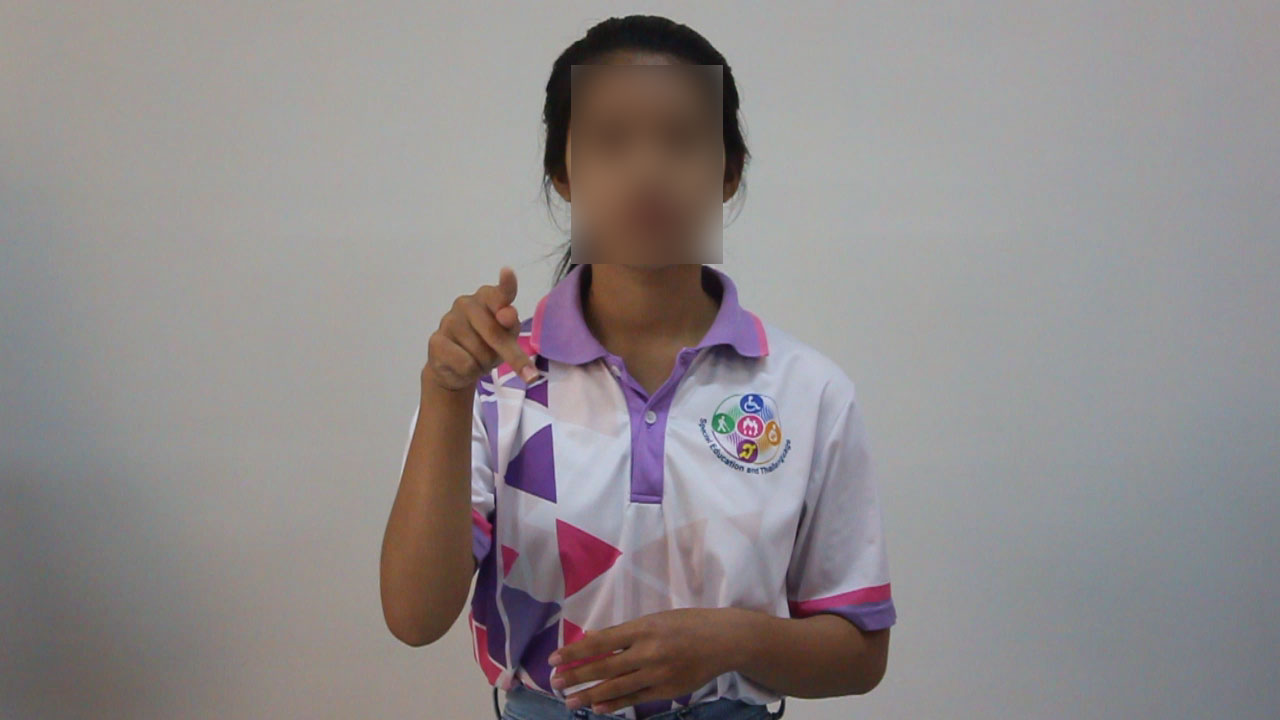por: (404, 246, 543, 399)
